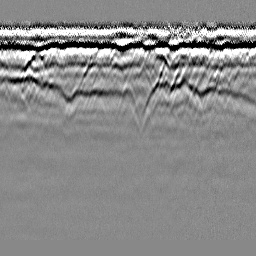cavity: (115, 81, 142, 125)
